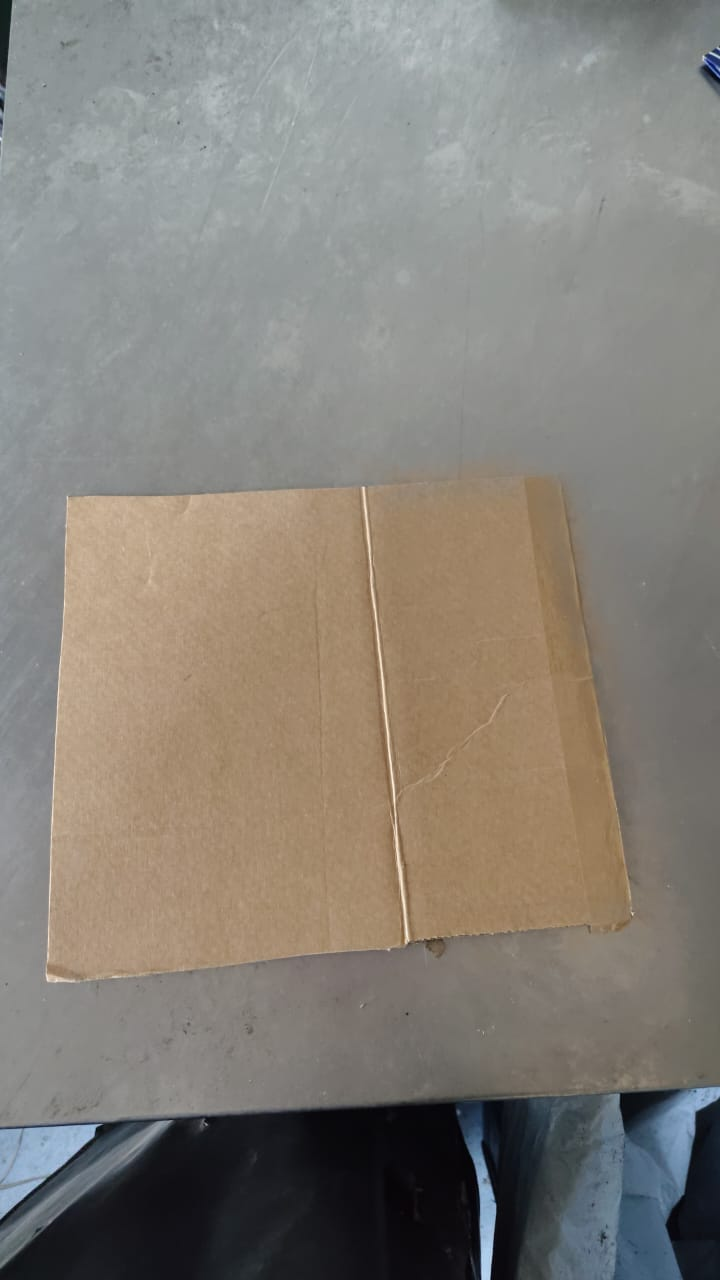Carton: (46, 473, 637, 993)
